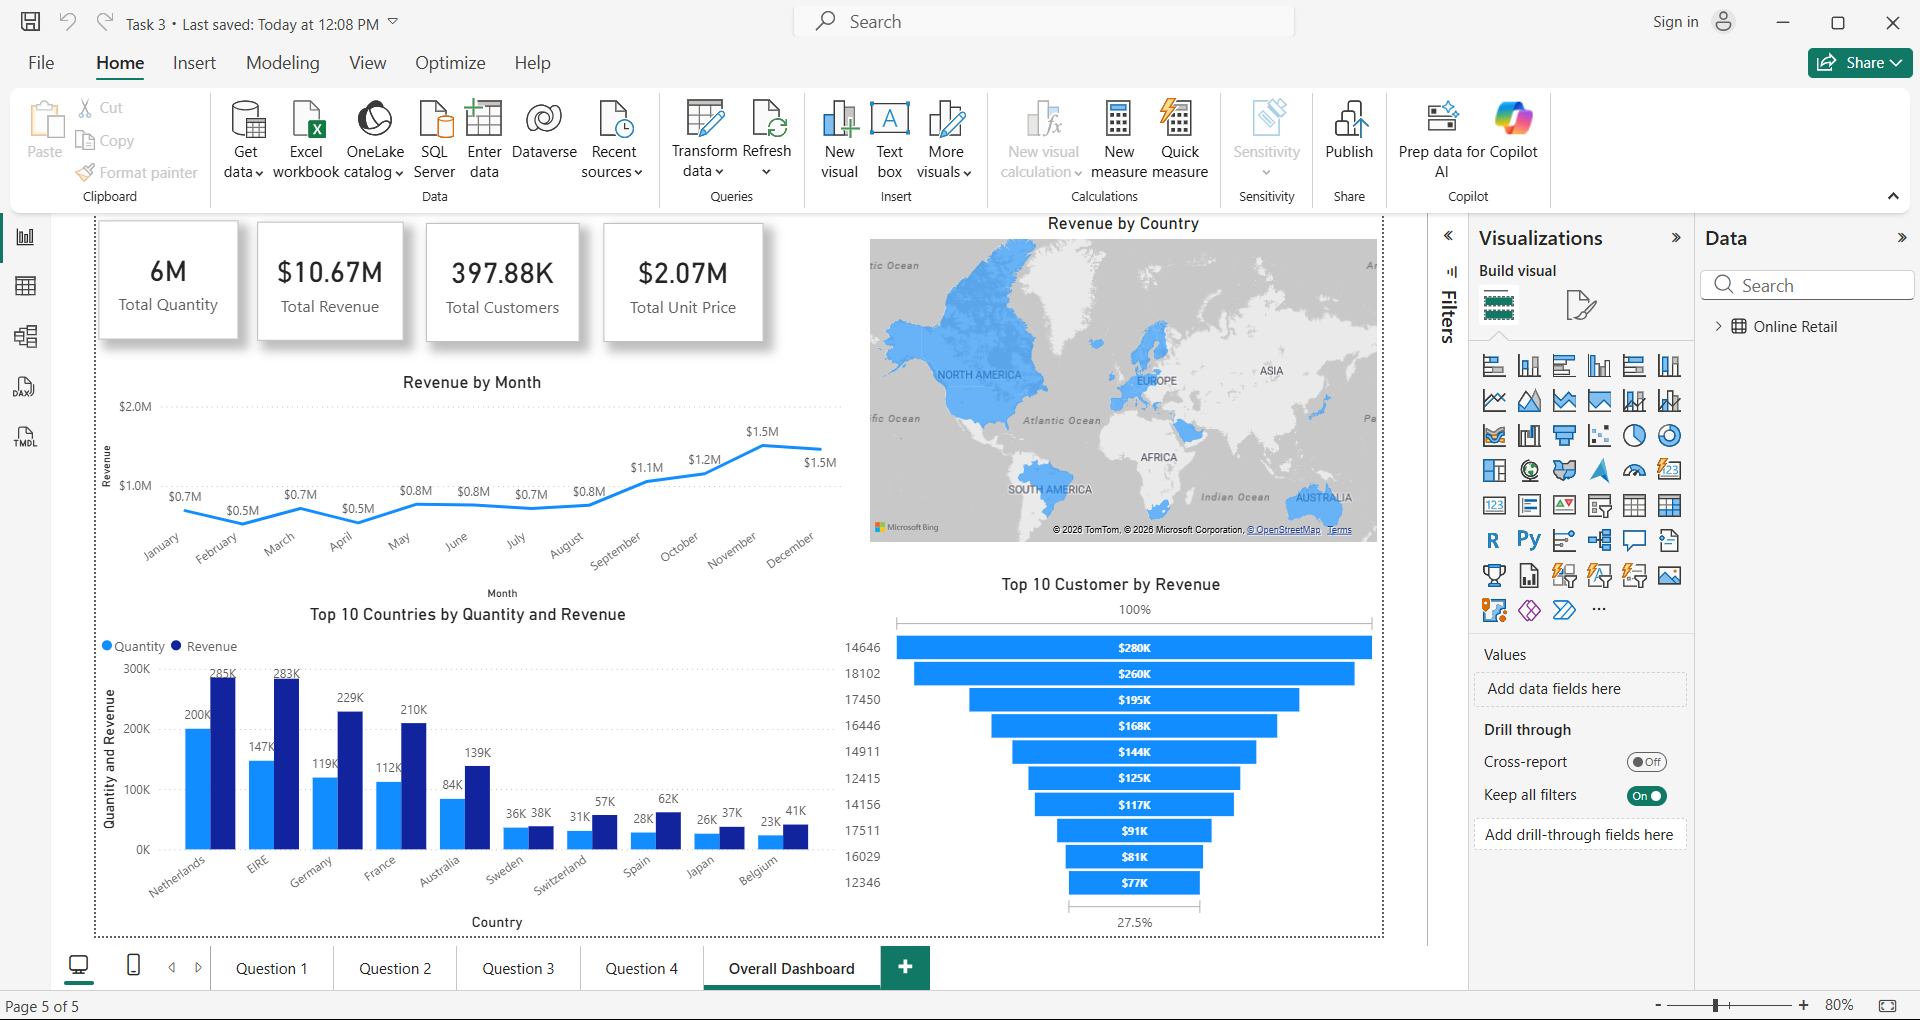

The page's visual inventory and layout, read from the dashboard file:
{"tool":"powerbi","page":{"name":"Overall Dashboard","canvas":[1280,720],"ordinal":4},"visuals":[{"type":"lineChart","fields":{"Category":["Online Retail.InvoiceDate.Variation.Date Hierarchy.Month"],"Y":["Sum(Online Retail.Revenue)"]},"box":[0,158,748.9,231.4],"z":1000},{"type":"clusteredColumnChart","title":"Top 10 Countries by Quantity and  Revenue","fields":{"Category":["Online Retail.Country"],"Y":["Sum(Online Retail.Quantity)","Sum(Online Retail.Revenue)"]},"box":[0,389.4,740.2,329.6],"z":2000},{"type":"funnel","title":" Top 10 Customer by Revenue ","fields":{"Category":["Online Retail.CustomerID"],"Y":["Sum(Online Retail.Revenue)"]},"box":[740.2,359.5,539.9,360.7],"z":3000},{"type":"card","fields":{"Values":["Sum(Online Retail.Quantity)"]},"box":[2.5,7.5,139.3,118.2],"z":4000},{"type":"card","fields":{"Values":["Sum(Online Retail.Revenue)"]},"box":[160.5,8.7,145.5,118.2],"z":5000},{"type":"card","fields":{"Values":["CountNonNull(Online Retail.CustomerID)"]},"box":[328.4,10,153,118.2],"z":6000},{"type":"card","fields":{"Values":["Sum(Online Retail.UnitPrice)"]},"box":[505,10,159.2,118.2],"z":7000},{"type":"filledMap","fields":{"Category":["Online Retail.Country"]},"box":[765,0,515,332.1],"z":7001}]}

Visuals, with their boxes on the page's 1280x720 design canvas (x1, y1, x2, y2). These are canvas units, not pixel positions in the 1920x1020 screenshot, which may show the page scaled, cropped or inside an application window:
lineChart - Online Retail.InvoiceDate.Variation.Date Hierarchy.Month x Sum(Online Retail.Revenue): (0,158,749,389)
"Top 10 Countries by Quantity and  Revenue" clusteredColumnChart: (0,389,740,719)
" Top 10 Customer by Revenue " funnel: (740,360,1280,720)
card - Sum(Online Retail.Quantity): (2,8,142,126)
card - Sum(Online Retail.Revenue): (160,9,306,127)
card - CountNonNull(Online Retail.CustomerID): (328,10,481,128)
card - Sum(Online Retail.UnitPrice): (505,10,664,128)
filledMap - Online Retail.Country: (765,0,1280,332)
